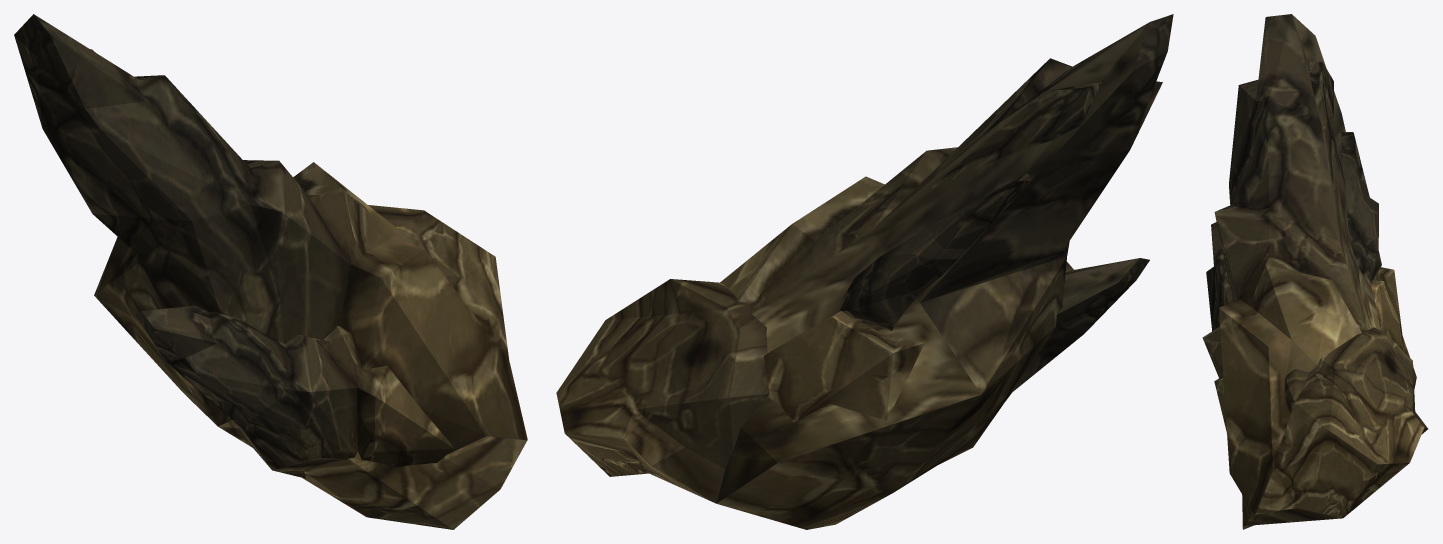
Rendered from D_yanshi006.fbx.
The picture shows the model from 3 angles, left to right: view 1: azimuth 30°, elevation 25°; view 2: azimuth 150°, elevation 25°; view 3: azimuth 270°, elevation 25°; orthographic projection. The views are drawn at different scales.
Parts seen in each view (by area): view 1: D_yanshi006; view 2: D_yanshi006; view 3: D_yanshi006.
Part boxes in pixels (<box>): D_yanshi006: <box>14,14,527,529</box>; D_yanshi006: <box>556,14,1173,529</box>; D_yanshi006: <box>1202,14,1428,529</box>.
Bounding box in the file's own units: 937 × 1028 × 539.
